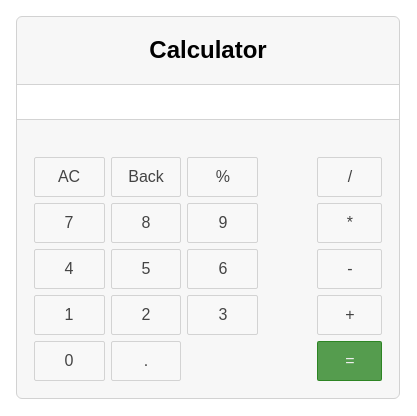
Test: check addition
In the field named "enter input": point(208, 102) top-left (16, 85), bottom-right (399, 119), type "12+12"
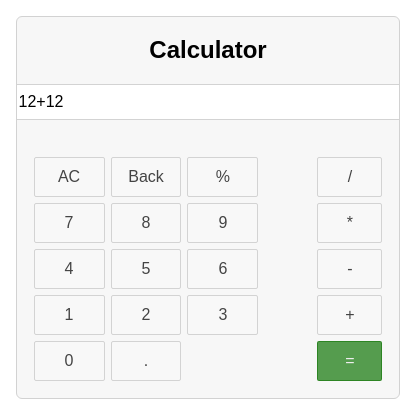
Click the button "=": point(350, 360) top-left (318, 340), bottom-right (382, 380)
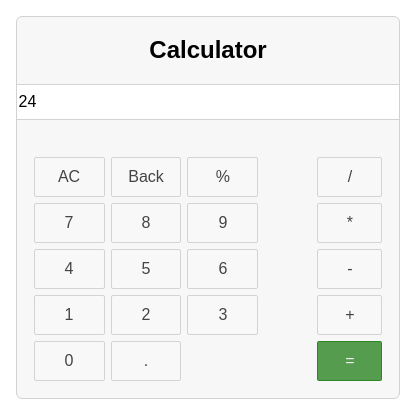
Result: the field showing "24" is shown at top-left (16, 85), bottom-right (399, 119)
